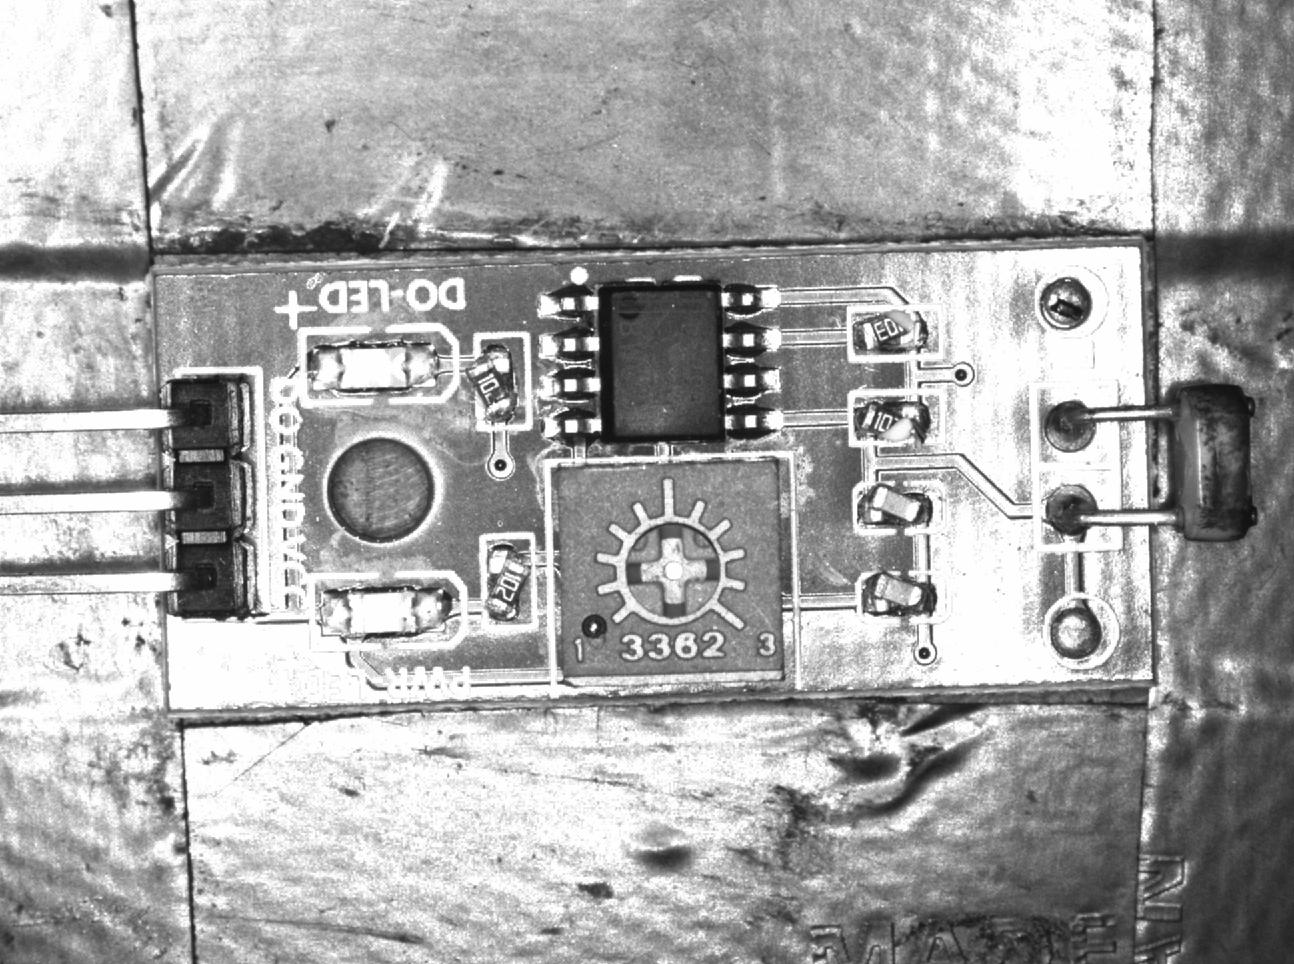lifted: (848, 394, 954, 454), (848, 304, 948, 359), (850, 481, 950, 535), (471, 336, 527, 429), (482, 540, 535, 630), (858, 570, 943, 619)
